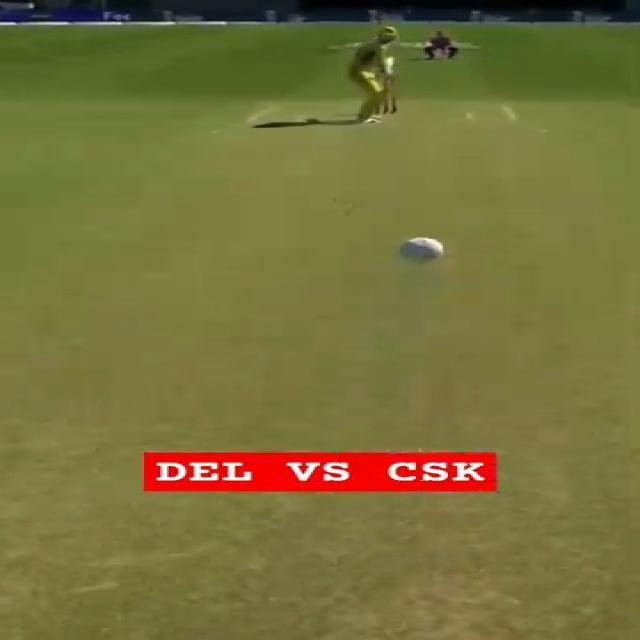ball: (393, 235, 453, 271)
